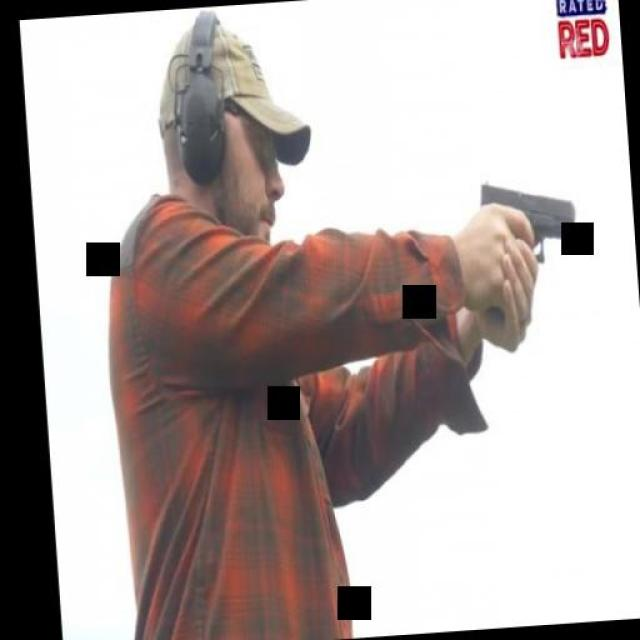gun: (470, 174, 586, 326)
